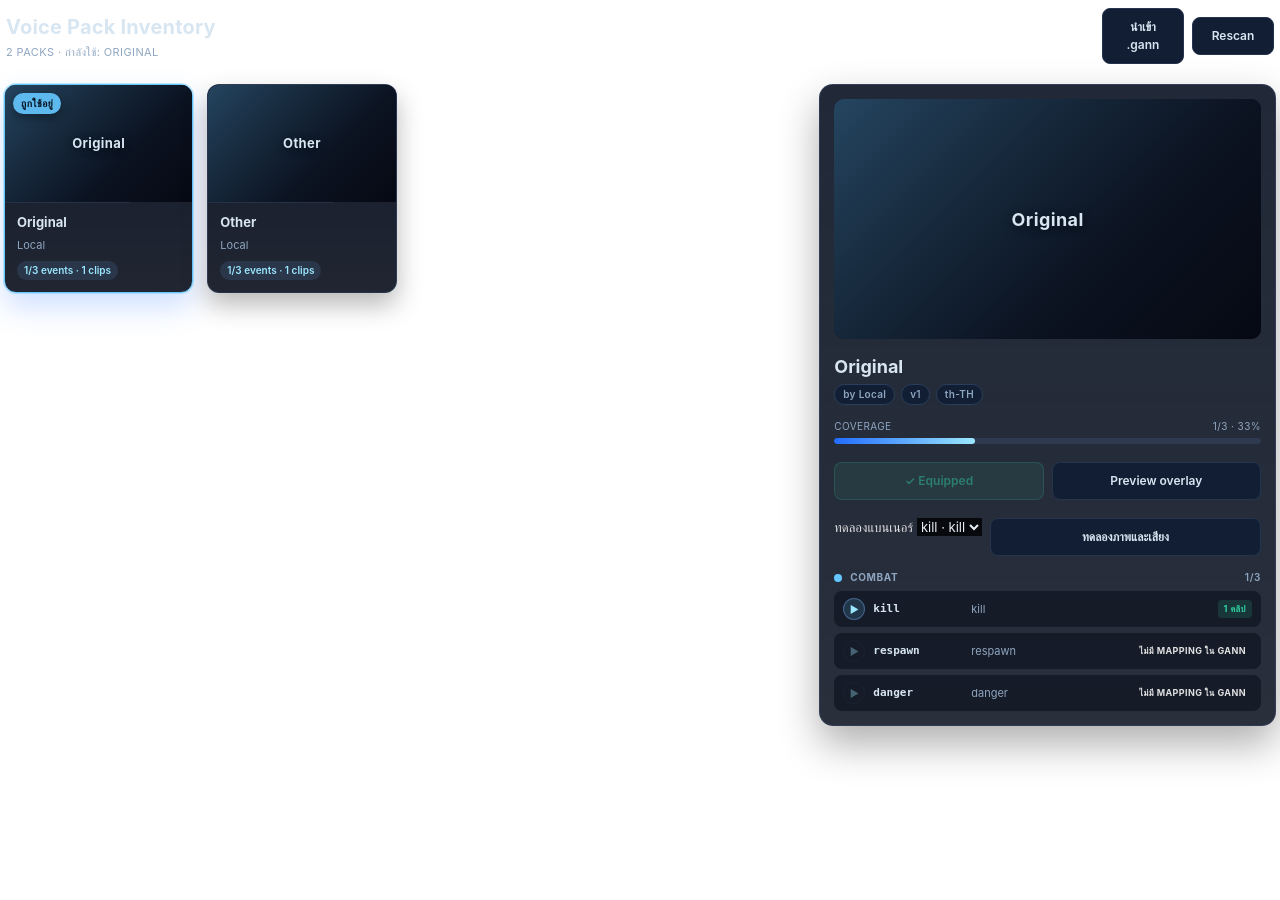
displays native preview errors without activating a pack or invoking a banner
Click the button "Other Other Local 1/3 events · 1 clips" at (302, 189), box [207, 84, 397, 293]
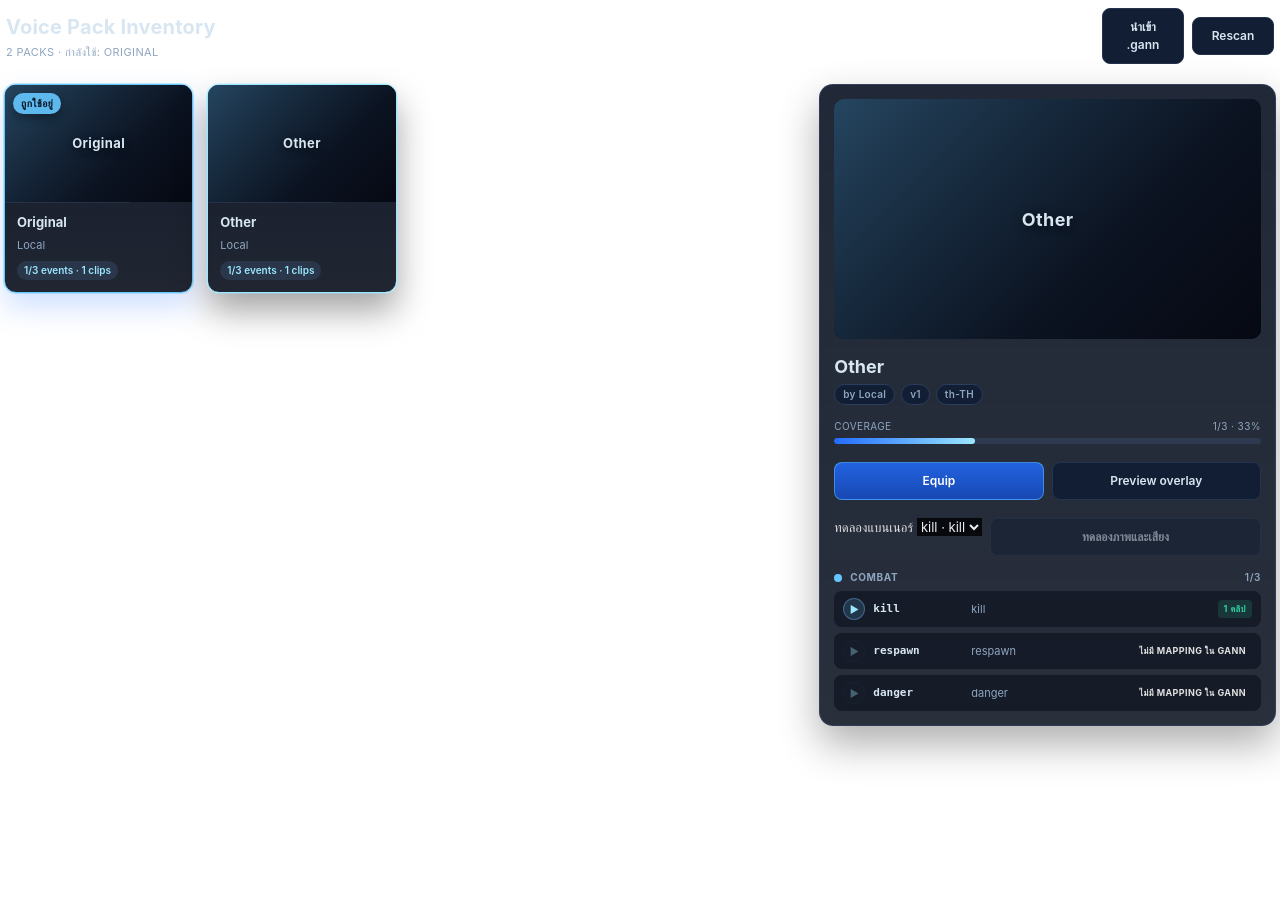
Click the button named "Play kill" at (854, 609), box [843, 598, 865, 620]
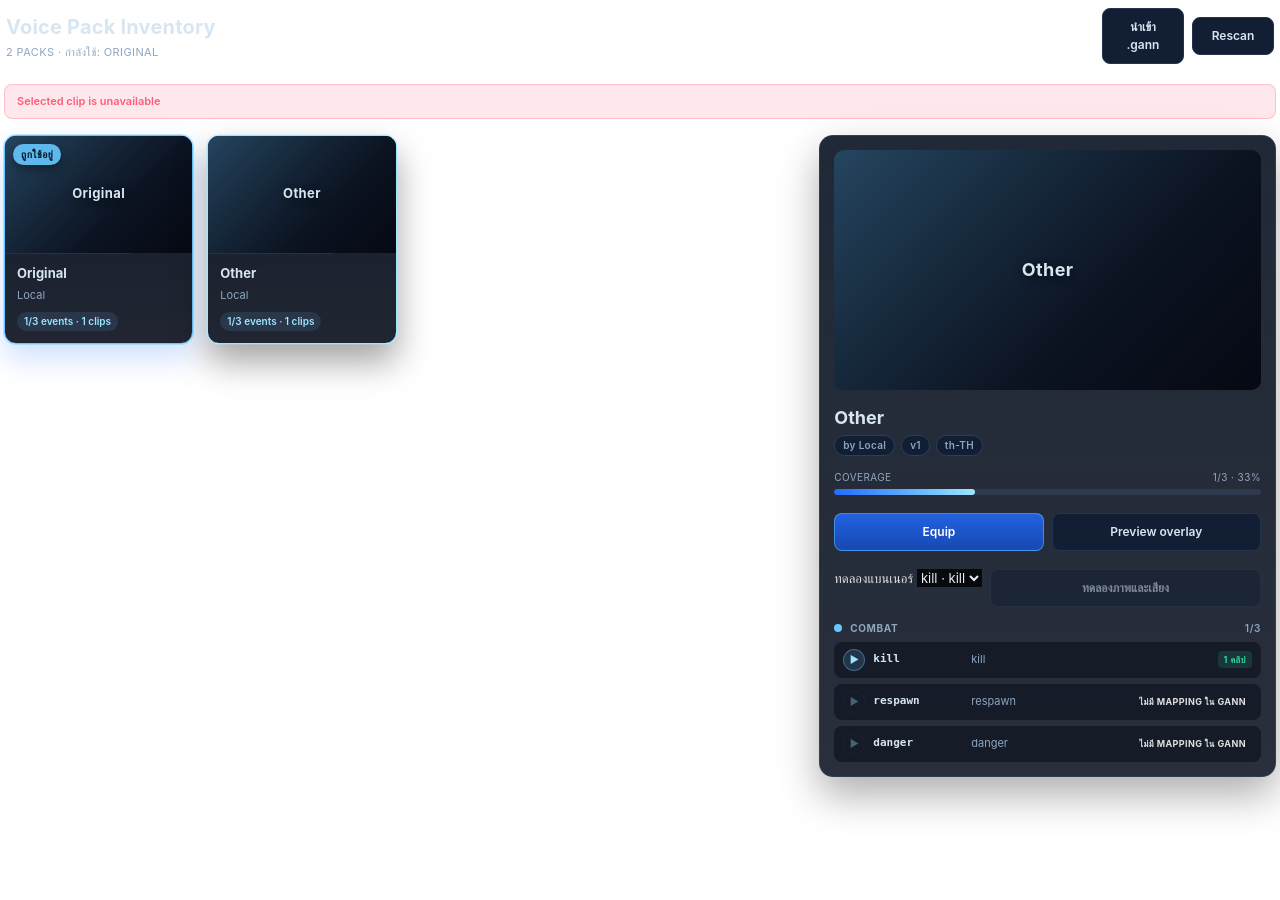
Expected: the text "2 packs · กำลังใช้: Original" is shown, [6, 45, 159, 59]
Now the text with class "err" reads "Selected clip is unavailable", box [17, 94, 160, 108]
